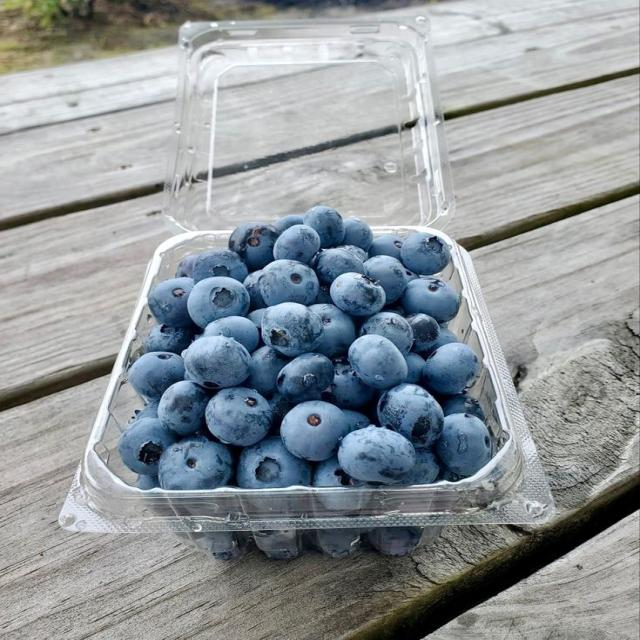blueberry: (338, 427, 415, 483), (378, 385, 444, 449), (281, 401, 348, 461), (158, 437, 232, 490), (206, 388, 272, 446), (236, 437, 311, 488), (436, 414, 491, 477), (118, 418, 178, 475), (185, 337, 250, 389), (262, 303, 323, 357), (349, 335, 408, 389), (188, 277, 249, 328), (158, 381, 209, 436), (423, 343, 478, 394), (277, 353, 333, 403), (259, 260, 319, 306), (402, 278, 460, 323), (129, 353, 185, 399), (310, 304, 356, 358), (229, 223, 279, 271), (331, 272, 385, 316), (329, 358, 375, 408), (360, 312, 413, 355), (148, 278, 194, 326), (246, 346, 289, 397), (364, 256, 408, 303), (401, 233, 451, 274), (203, 317, 260, 352), (274, 225, 320, 264), (314, 249, 365, 284), (194, 249, 248, 282), (304, 206, 344, 248), (189, 532, 245, 561), (313, 456, 363, 488), (369, 527, 423, 556), (313, 456, 363, 487), (144, 325, 193, 355), (399, 450, 439, 484), (254, 530, 300, 559), (440, 392, 485, 421), (316, 529, 360, 558), (407, 314, 440, 352), (423, 326, 459, 356), (343, 218, 373, 251), (270, 393, 294, 434), (243, 270, 267, 310), (369, 235, 403, 259), (130, 400, 159, 421), (405, 353, 424, 384), (176, 254, 199, 278), (274, 214, 303, 233), (344, 410, 370, 431), (337, 245, 368, 261), (248, 308, 266, 331), (438, 466, 464, 481), (135, 476, 160, 490), (382, 301, 405, 316), (315, 285, 332, 304), (405, 267, 419, 283), (439, 322, 448, 329)
